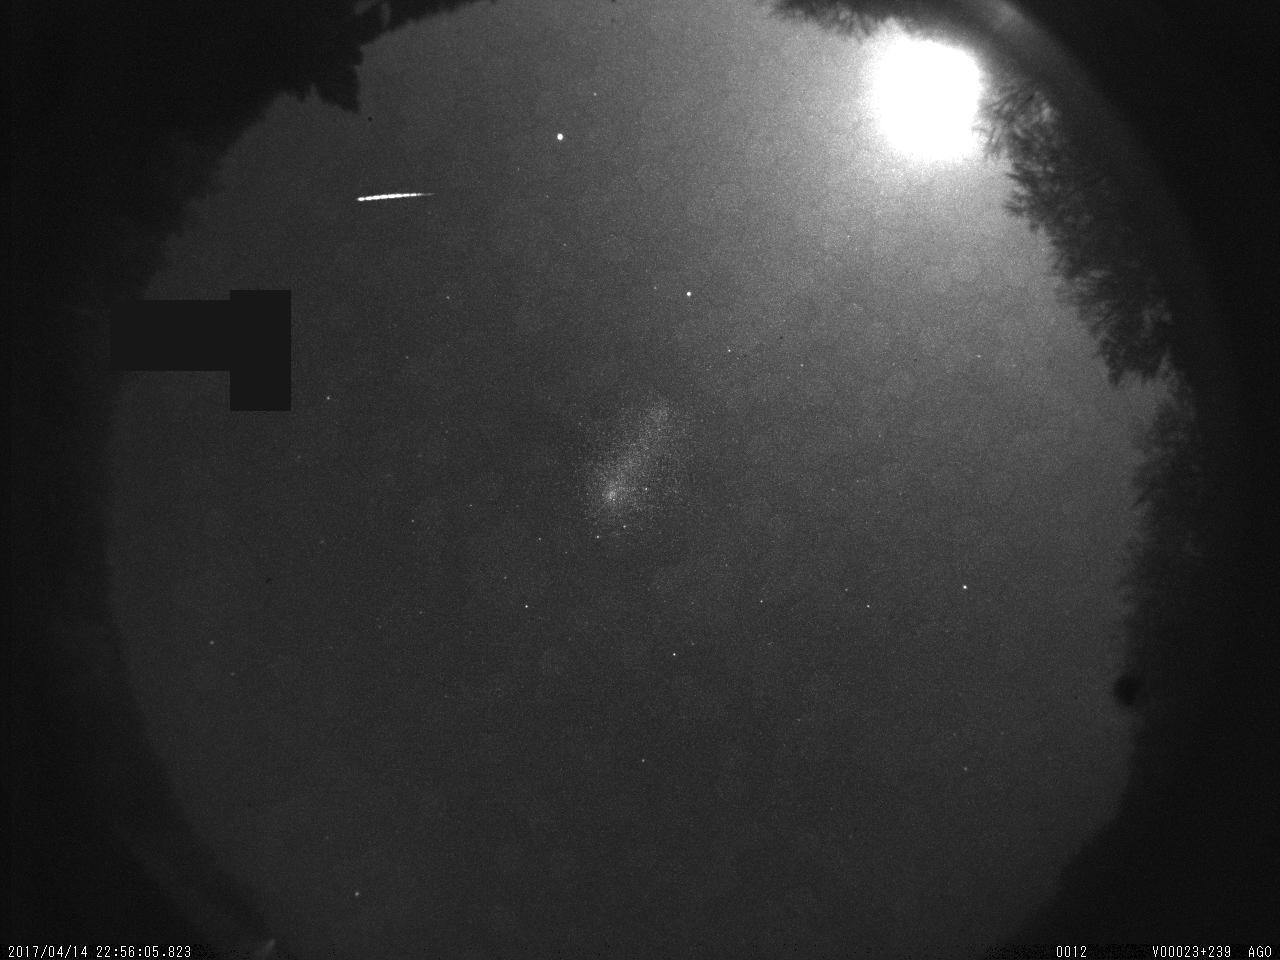Meteor: (352, 185, 446, 204)
